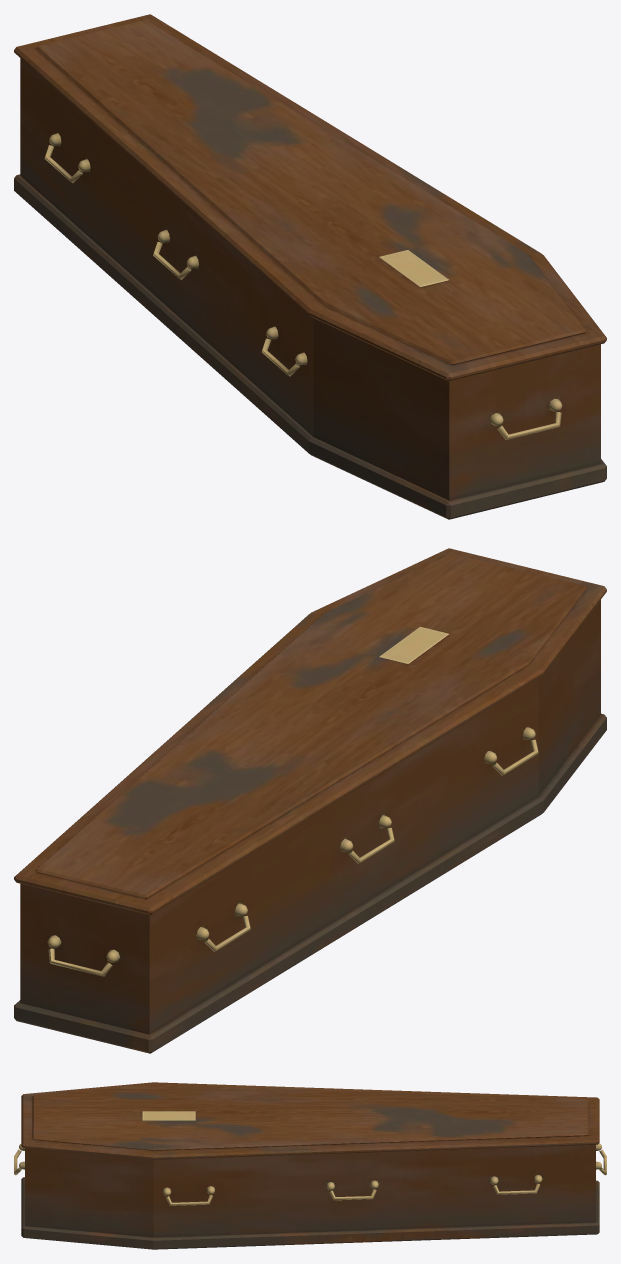
File: coffin.glb
The picture shows the model from 3 angles, top to bottom: view 1: azimuth 30°, elevation 25°; view 2: azimuth 150°, elevation 25°; view 3: azimuth 270°, elevation 25°; orthographic projection. The views are drawn at different scales.
Visible parts, largest first — view 1: coffin_lid, coffin, plate; view 2: coffin_lid, coffin, plate; view 3: coffin, coffin_lid, plate.
Part boxes in pixels (x1,y1,x2,y2): coffin_lid: [14, 14, 606, 381]; coffin: [14, 58, 606, 519]; plate: [379, 250, 448, 287]; coffin_lid: [14, 548, 606, 915]; coffin: [14, 600, 606, 1053]; plate: [379, 626, 448, 664]; coffin: [14, 1143, 606, 1249]; coffin_lid: [21, 1082, 599, 1159]; plate: [142, 1111, 195, 1120].
Size of the model in its own units: 0.598 by 0.342 by 1.89.
1 material, 1 textured.
